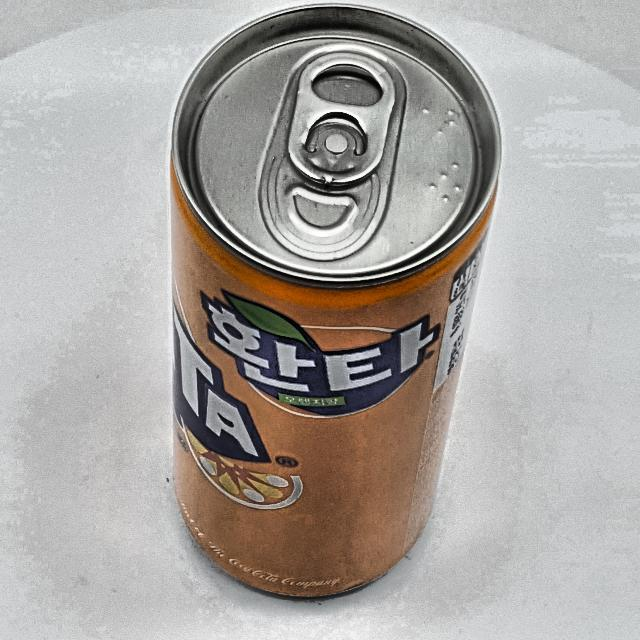fantaorange: (171, 5, 500, 596)
